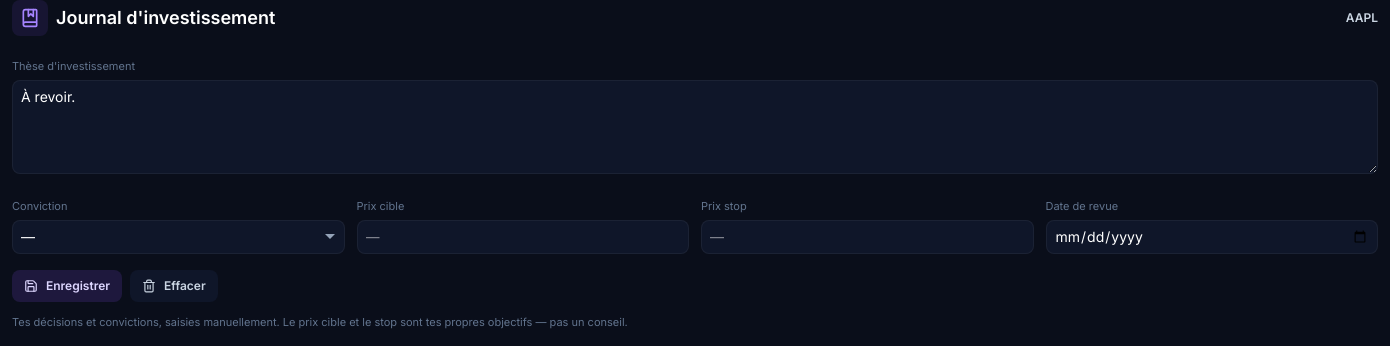
Scenario: InvestmentJournalPanel › clears a stored note with the Effacer action
Click the button "Effacer" at (174, 286), box [130,270,218,302]
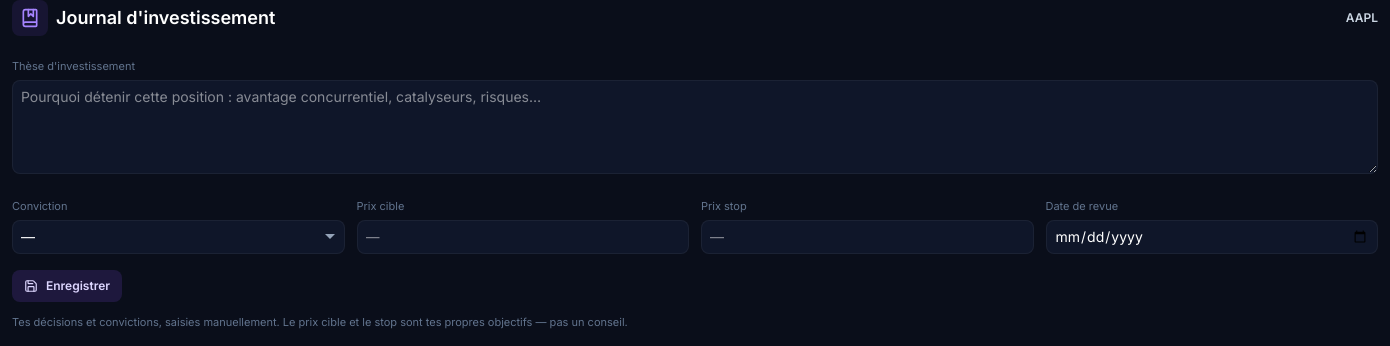
Check: the text box labelled "Thèse d'investissement" is empty, box [12,80,1378,174]
